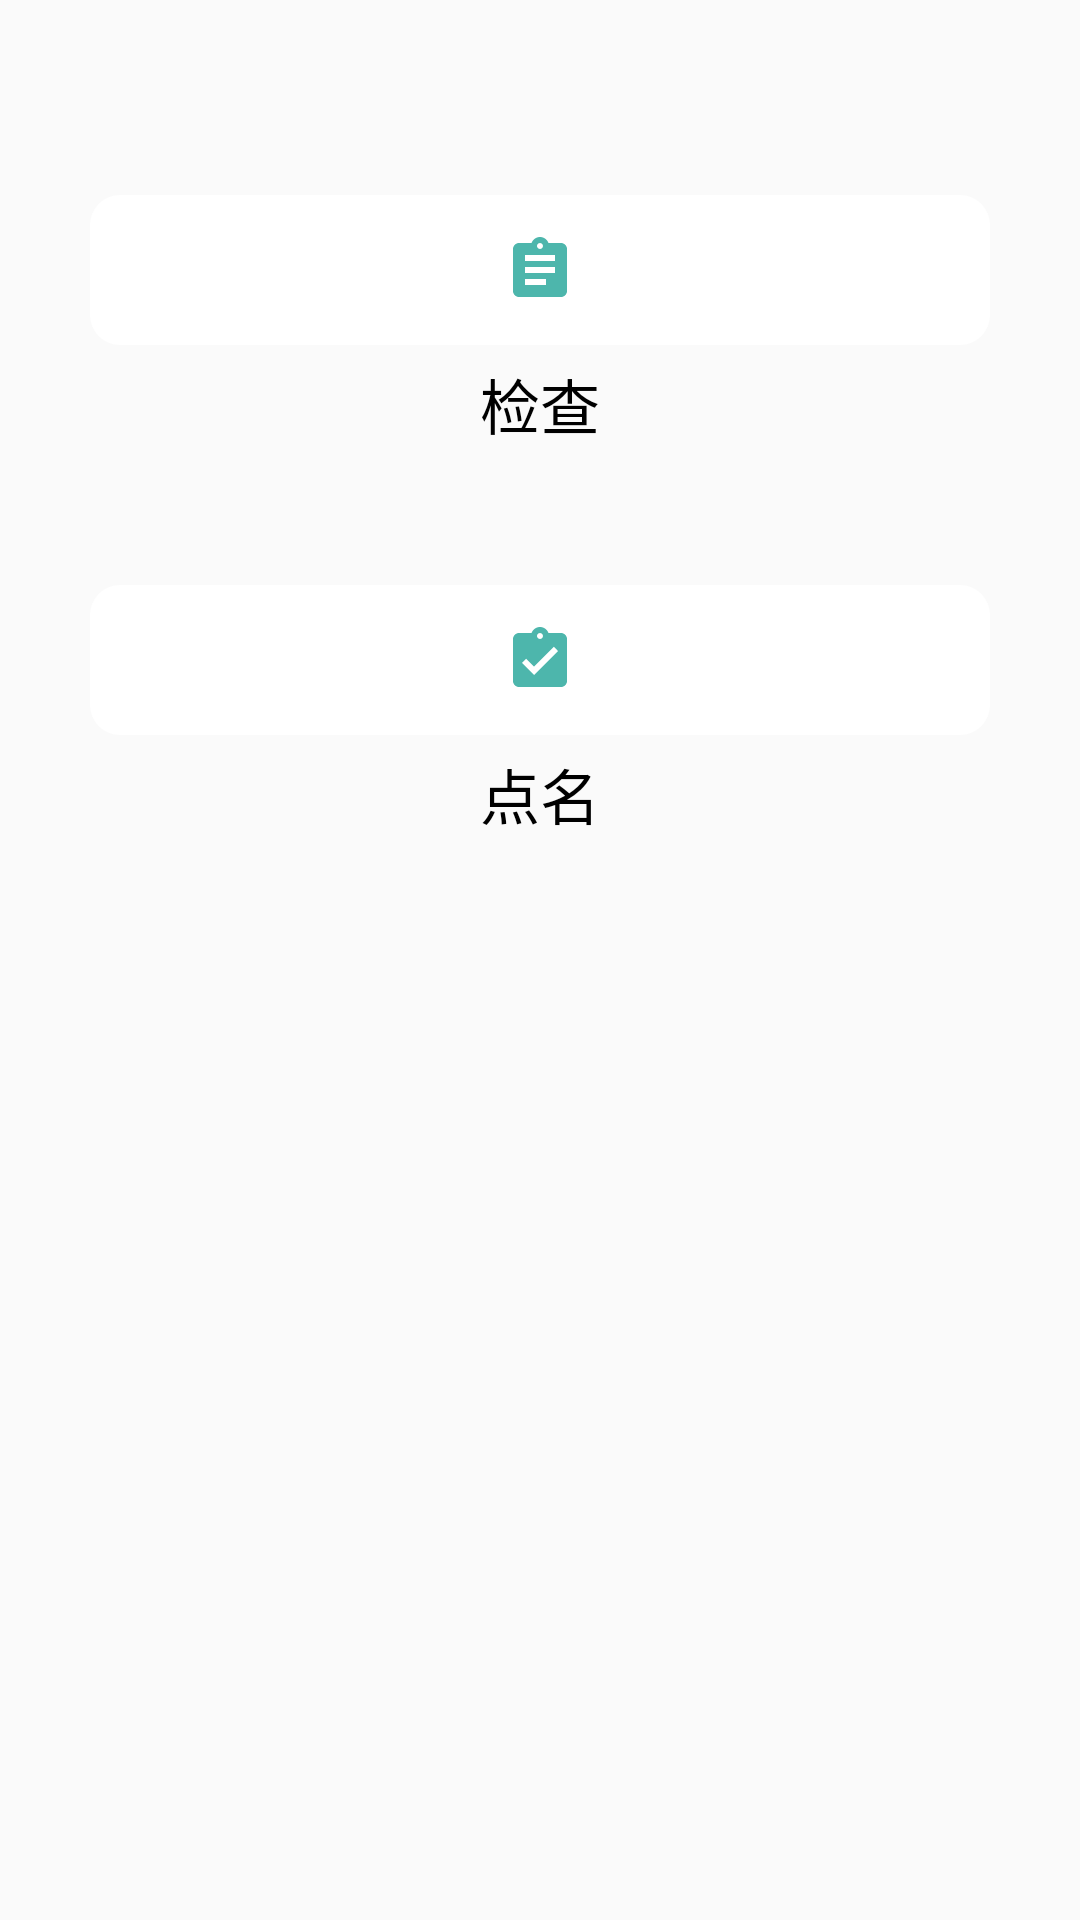

Point at icon controls on the screen. Image size 1080px x 1920px, points as (x,y).
checking: (540,267)
roll call: (540,657)
